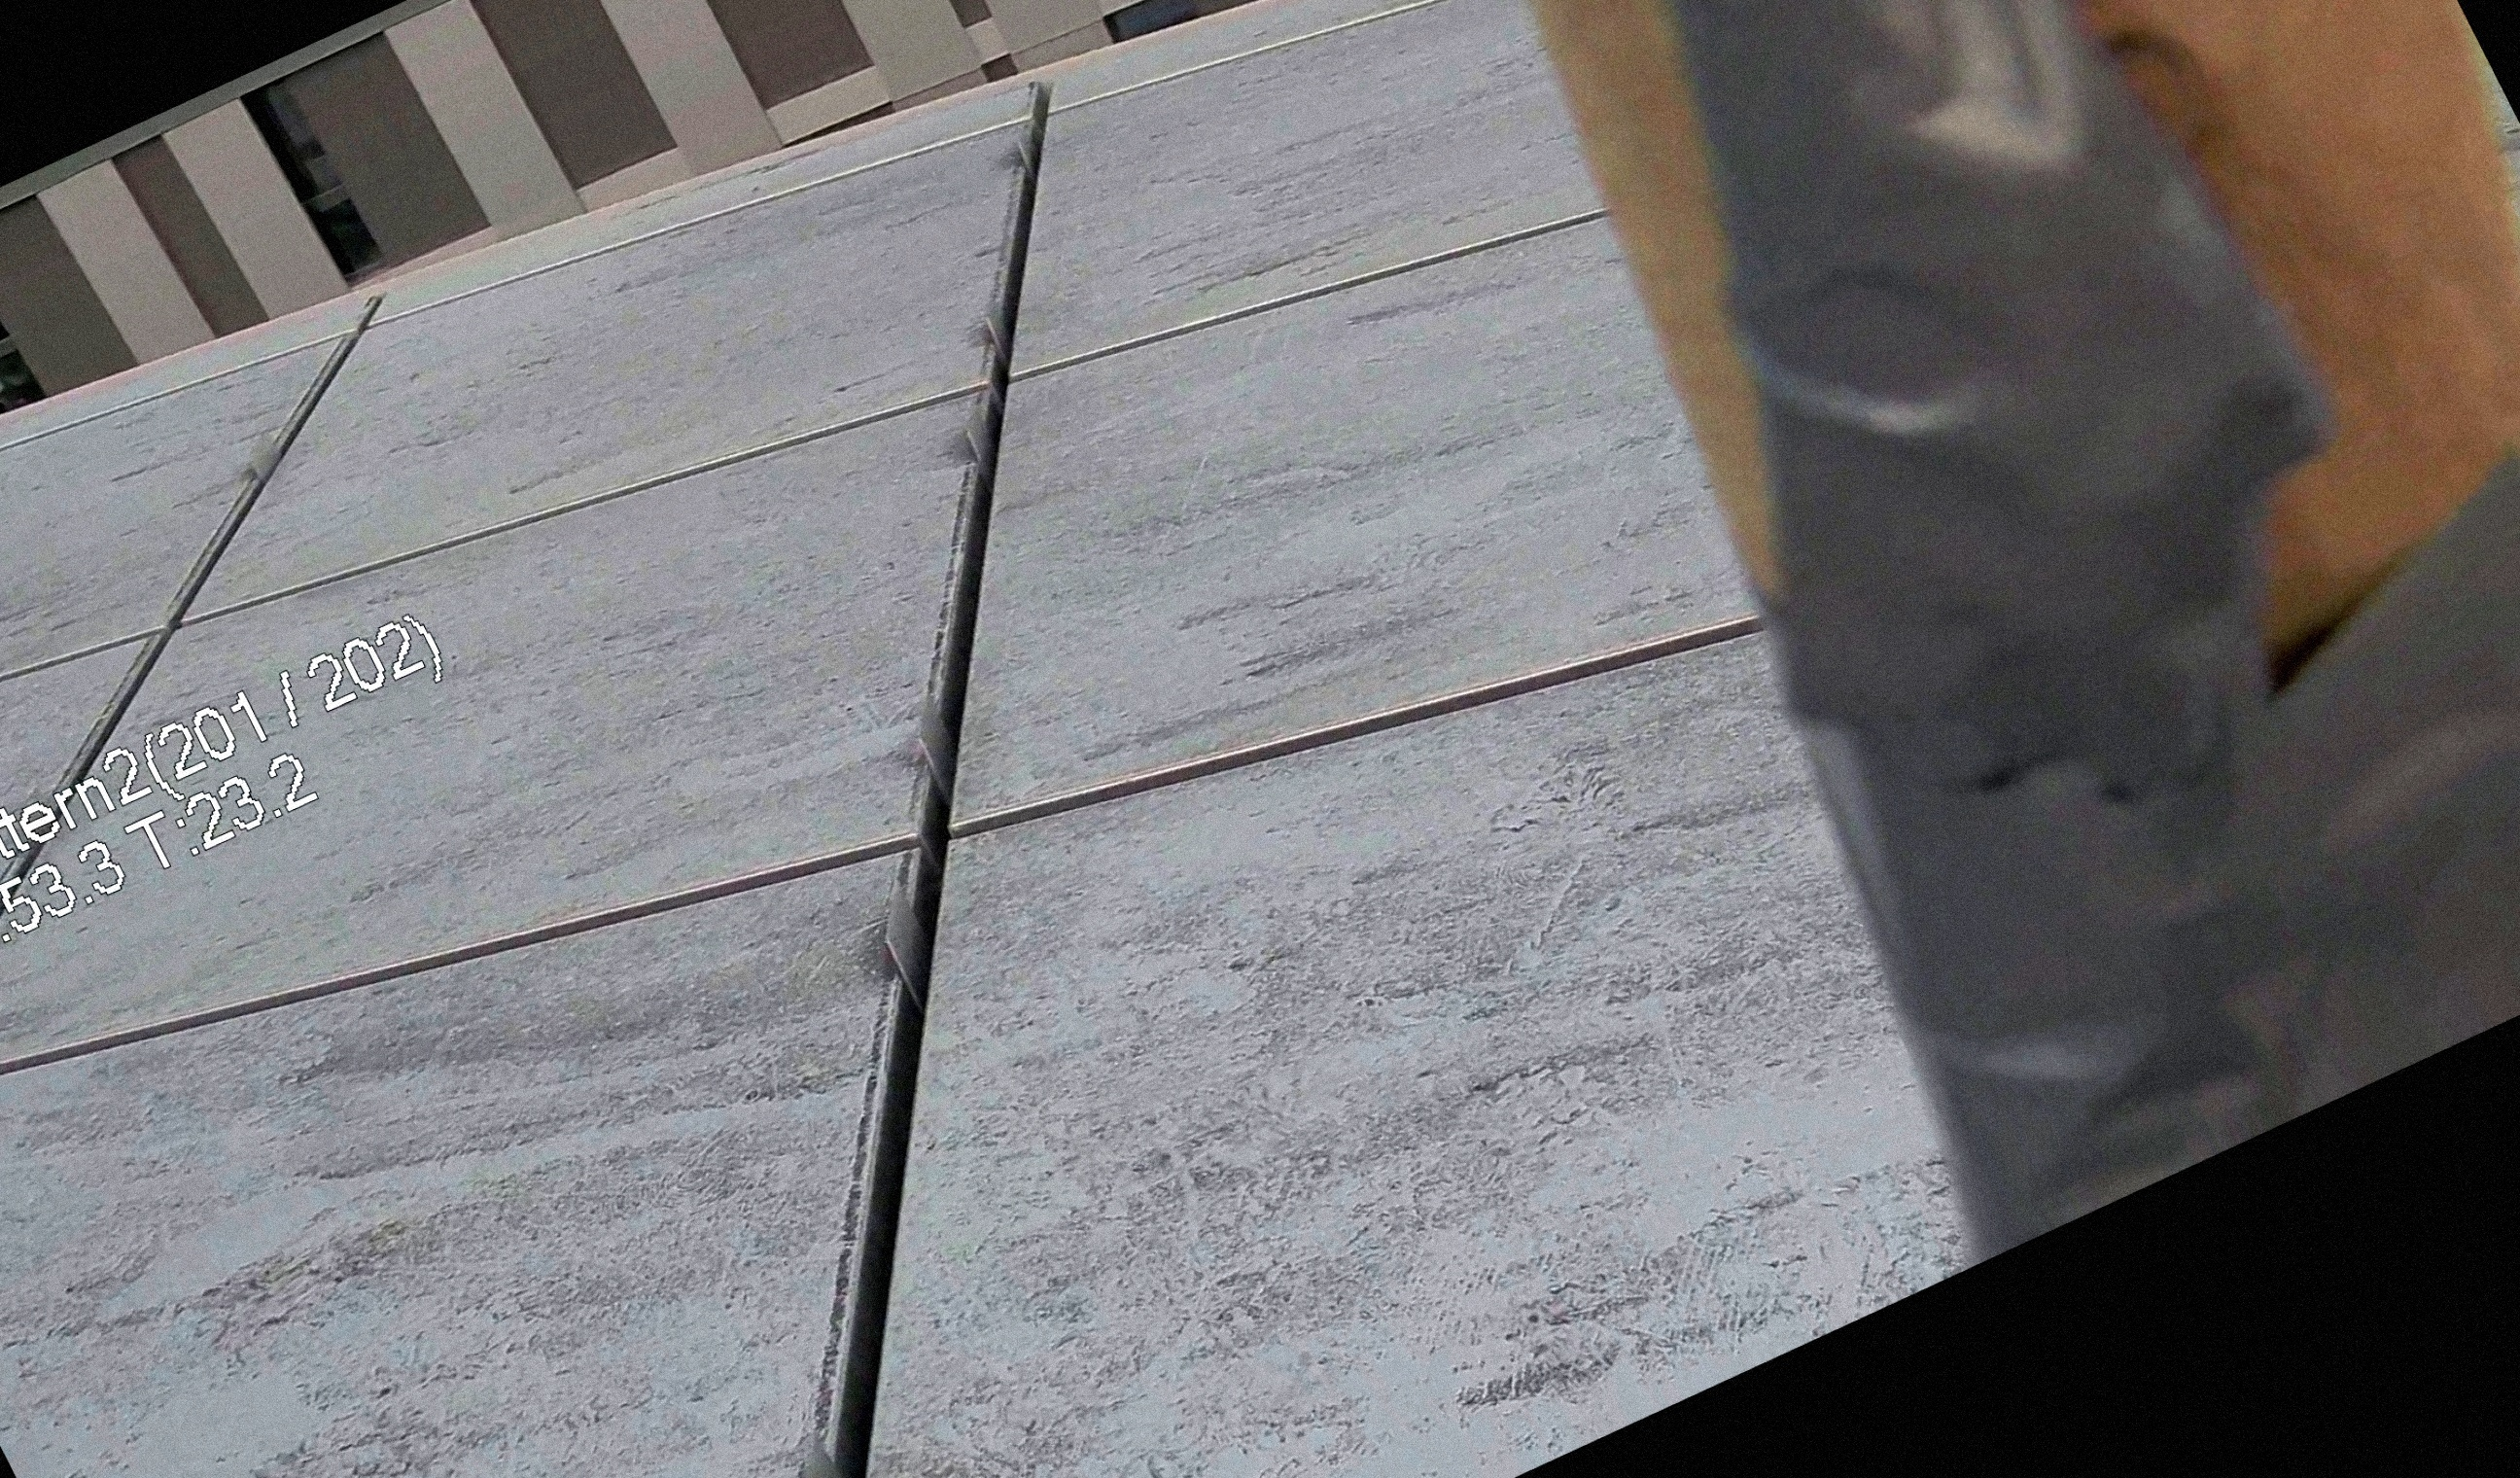Other: (1224, 0, 2520, 1248)
